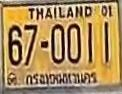0: (66, 23, 80, 63), (50, 23, 64, 63)
1: (103, 22, 109, 63), (87, 23, 92, 64)
6: (7, 24, 21, 64)
7: (24, 24, 38, 66)
BKK: (25, 70, 99, 87)
